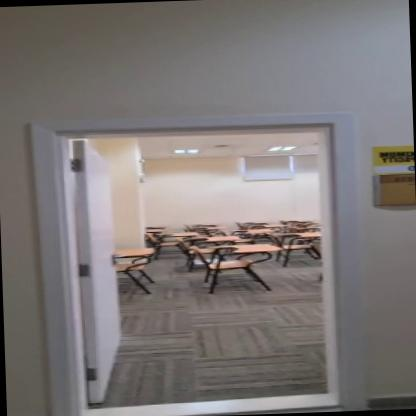open: (38, 94, 372, 416)
